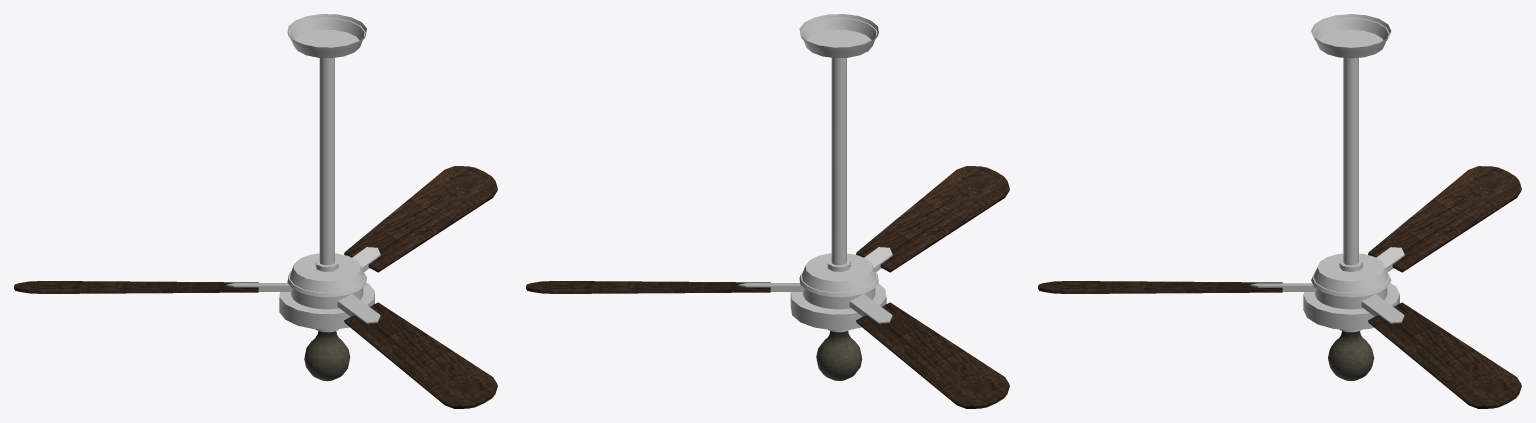
The model's file is ceiling_fan_mp_1_1_light_off.obj.
The picture shows the model from 3 angles, left to right: view 1: azimuth 30°, elevation 25°; view 2: azimuth 150°, elevation 25°; view 3: azimuth 270°, elevation 25°; orthographic projection.
Parts seen in each view (by area): view 1: ceiling_fan_mp_1_1_light_off_blades, ceiling_fan_mp_1_1_light_off; view 2: ceiling_fan_mp_1_1_light_off_blades, ceiling_fan_mp_1_1_light_off; view 3: ceiling_fan_mp_1_1_light_off_blades, ceiling_fan_mp_1_1_light_off.
Part boxes in pixels (x1,y1,x2,y2): ceiling_fan_mp_1_1_light_off_blades: [14, 166, 497, 408]; ceiling_fan_mp_1_1_light_off: [279, 14, 374, 381]; ceiling_fan_mp_1_1_light_off_blades: [526, 166, 1009, 408]; ceiling_fan_mp_1_1_light_off: [790, 14, 886, 380]; ceiling_fan_mp_1_1_light_off_blades: [1038, 166, 1521, 408]; ceiling_fan_mp_1_1_light_off: [1303, 14, 1399, 380].
Size of the model in its own units: 1.02 by 0.7128 by 0.8979.
